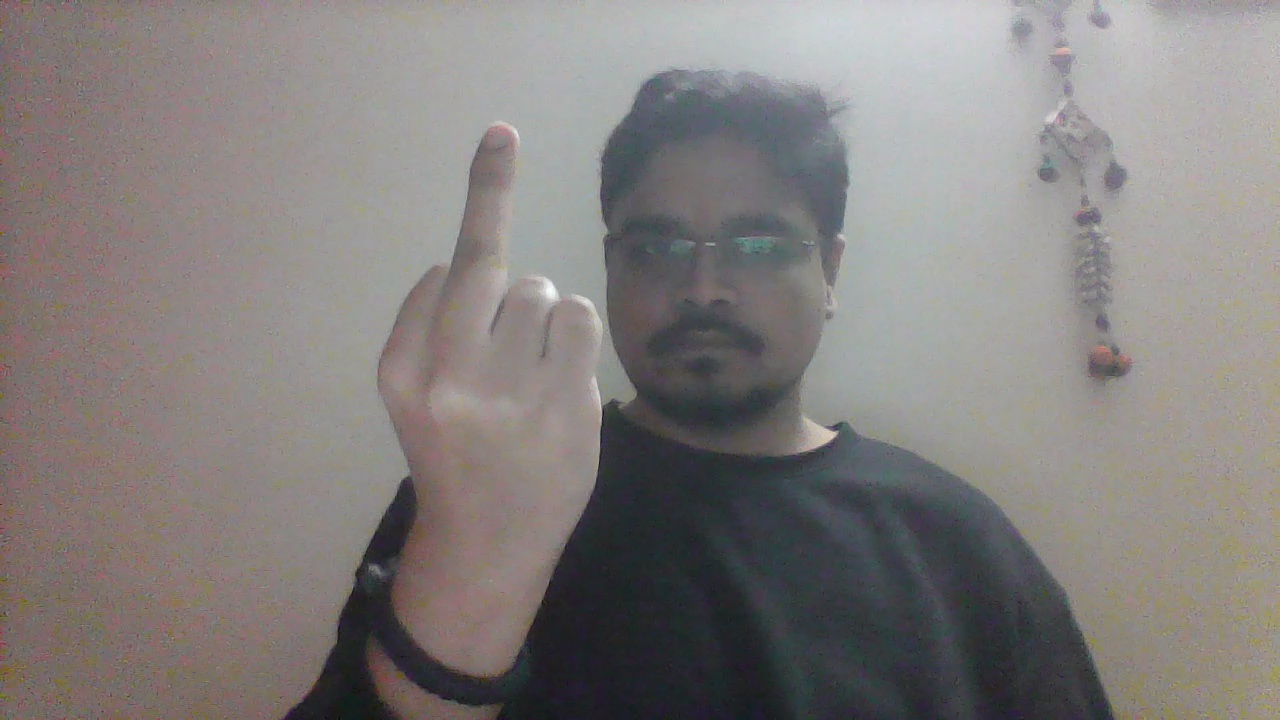Fuck Off: (371, 118, 608, 594)
